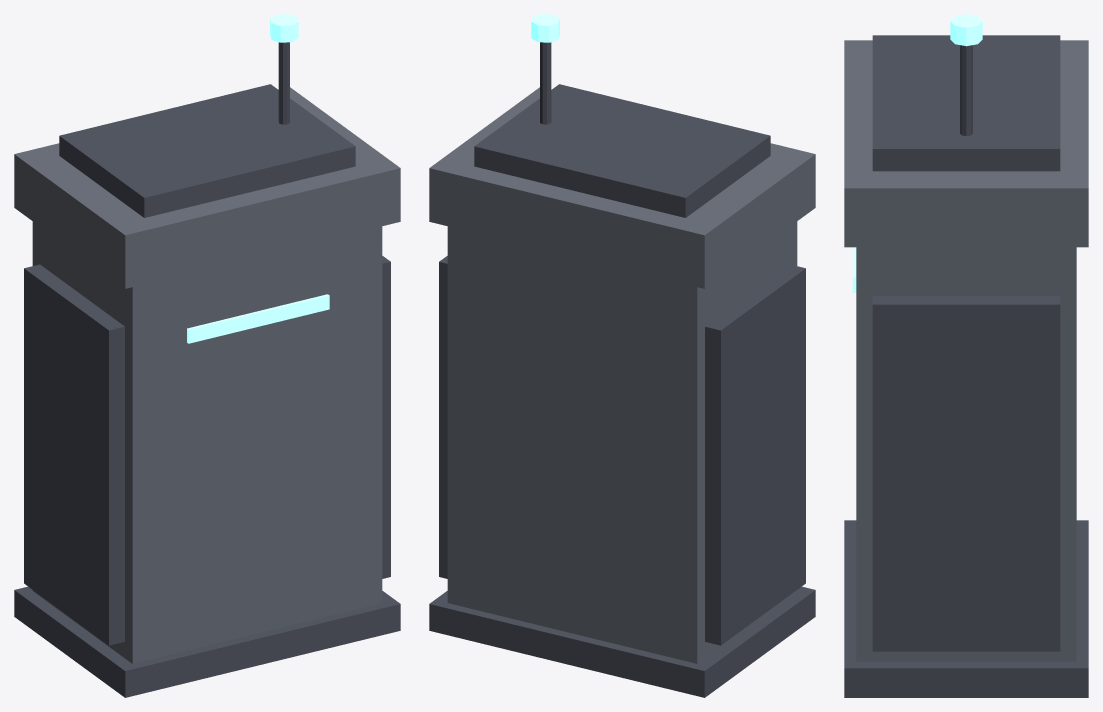
Rendered from rack-enterprise.glb.
The picture shows the model from 3 angles, left to right: view 1: azimuth 30°, elevation 25°; view 2: azimuth 150°, elevation 25°; view 3: azimuth 270°, elevation 25°; orthographic projection. The views are drawn at different scales.
Visible parts, largest first — view 1: rack_enterprise; view 2: rack_enterprise; view 3: rack_enterprise.
Boxes of the visible parts, bbox=[...] form: rack_enterprise: bbox=[14, 14, 400, 697]; rack_enterprise: bbox=[429, 14, 815, 697]; rack_enterprise: bbox=[844, 14, 1088, 697].
Size of the model in its own units: 0.88 by 1.75 by 0.6.
